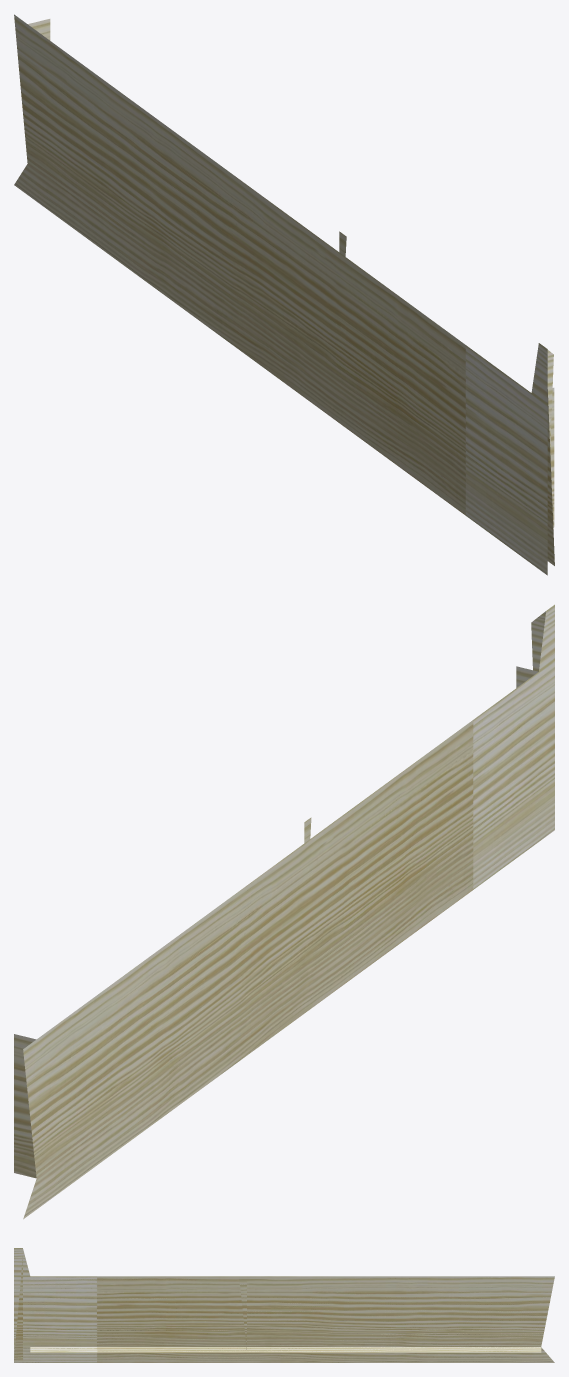
The picture shows the model from 3 angles, top to bottom: view 1: azimuth 30°, elevation 25°; view 2: azimuth 150°, elevation 25°; view 3: azimuth 270°, elevation 25°; orthographic projection. The views are drawn at different scales.
Bounding box in the file's own units: 0.0117 × 0.1117 × 0.4768.
